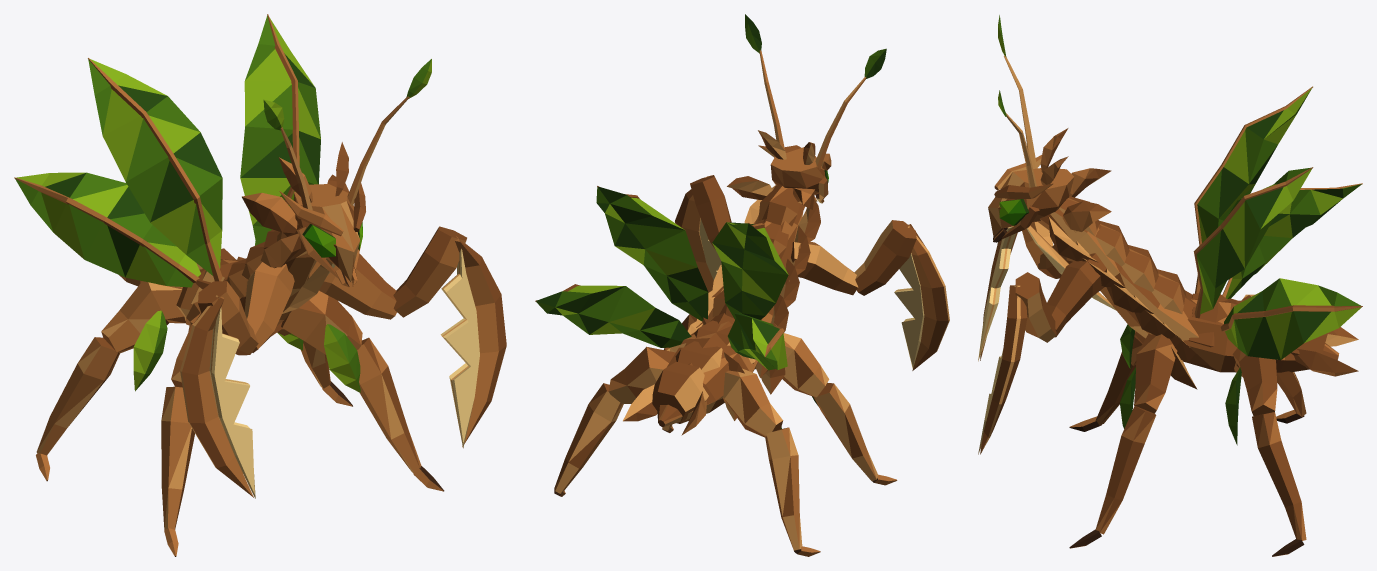
File: mantis-study-v7.glb
3 renders of one model, left to right at view 1: azimuth 30°, elevation 25°; view 2: azimuth 150°, elevation 25°; view 3: azimuth 270°, elevation 25°, orthographic. The views are drawn at different scales.
Visible parts, largest first — view 1: Leaf wing wing-1_0, Leaf wing wing-1_1, Leaf wing wing1_0, Swept bevelled wood sickle -1, Swept bevelled wood sickle 1, Bevelled continuous ivory teeth 1, Bevelled continuous ivory teeth -1, Walking tibia leg1_0, Walking tibia leg-1_0, Walking tibia leg-1_1, Raised raptorial forearm 1, Walking femur leg-1_1 (+20 smaller); view 2: Leaf wing wing1_0, Leaf wing wing1_1, Leaf wing wing-1_0, Walking tibia leg-1_1, Swept bevelled wood sickle -1, Walking tibia leg1_1, Raised raptorial forearm -1, Walking femur leg-1_1, Abdomen core, Walking tibia leg-1_0, Leaf wing wing-1_1, Abdominal tergite 2 (+19 smaller); view 3: Leaf wing wing1_1, Leaf wing wing1_0, Leaf wing wing-1_0, Leaf wing wing-1_1, Rising prothorax, Walking tibia leg1_1, Walking tibia leg1_0, Swept bevelled wood sickle 1, Walking femur leg1_0, Raptorial upper arm 1, Abdomen core, Volumetric pointed insect skull (+26 smaller).
Boxes of the visible parts, left/top/right/bottom form: Leaf wing wing-1_0: left=88, top=59, right=222, bottom=275; Leaf wing wing-1_1: left=15, top=172, right=200, bottom=287; Leaf wing wing1_0: left=240, top=15, right=320, bottom=244; Swept bevelled wood sickle -1: left=180, top=295, right=253, bottom=497; Swept bevelled wood sickle 1: left=455, top=236, right=506, bottom=447; Bevelled continuous ivory teeth 1: left=440, top=238, right=479, bottom=448; Bevelled continuous ivory teeth -1: left=209, top=297, right=255, bottom=498; Walking tibia leg1_0: left=357, top=337, right=421, bottom=472; Walking tibia leg-1_0: left=161, top=386, right=194, bottom=529; Walking tibia leg-1_1: left=36, top=337, right=119, bottom=455; Raised raptorial forearm 1: left=393, top=226, right=466, bottom=317; Walking femur leg-1_1: left=101, top=281, right=185, bottom=353; Leaf wing wing1_0: left=596, top=186, right=708, bottom=321; Leaf wing wing1_1: left=536, top=285, right=691, bottom=347; Leaf wing wing-1_0: left=712, top=222, right=788, bottom=319; Walking tibia leg-1_1: left=765, top=427, right=802, bottom=550; Swept bevelled wood sickle -1: left=907, top=224, right=949, bottom=370; Walking tibia leg1_1: left=554, top=383, right=623, bottom=493; Raised raptorial forearm -1: left=854, top=220, right=916, bottom=295; Walking femur leg-1_1: left=722, top=368, right=783, bottom=437; Abdomen core: left=657, top=321, right=758, bottom=426; Walking tibia leg-1_0: left=813, top=383, right=878, bottom=481; Leaf wing wing-1_1: left=727, top=313, right=787, bottom=370; Abdominal tergite 2: left=652, top=361, right=708, bottom=423; Leaf wing wing1_1: left=1224, top=278, right=1361, bottom=359; Leaf wing wing1_0: left=1196, top=167, right=1311, bottom=314; Leaf wing wing-1_0: left=1197, top=87, right=1312, bottom=242; Leaf wing wing-1_1: left=1225, top=184, right=1361, bottom=299; Rising prothorax: left=1038, top=209, right=1198, bottom=340; Walking tibia leg1_1: left=1252, top=412, right=1306, bottom=540; Walking tibia leg1_0: left=1095, top=406, right=1156, bottom=534; Swept bevelled wood sickle 1: left=980, top=285, right=1027, bottom=454; Walking femur leg1_0: left=1134, top=334, right=1177, bottom=413; Raptorial upper arm 1: left=1047, top=253, right=1106, bottom=337; Abdomen core: left=1183, top=298, right=1339, bottom=372; Volumetric pointed insect skull: left=988, top=168, right=1074, bottom=236.
Bounding box in the file's own units: 2.74 × 3.88 × 3.1.
